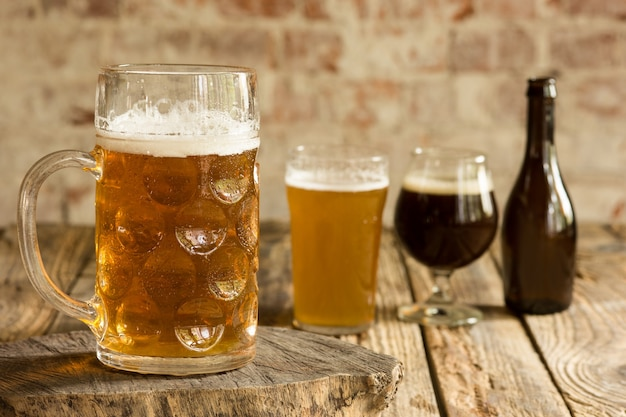alcohol: (19, 64, 262, 376), (283, 143, 390, 335), (394, 145, 500, 327), (501, 78, 581, 314)
